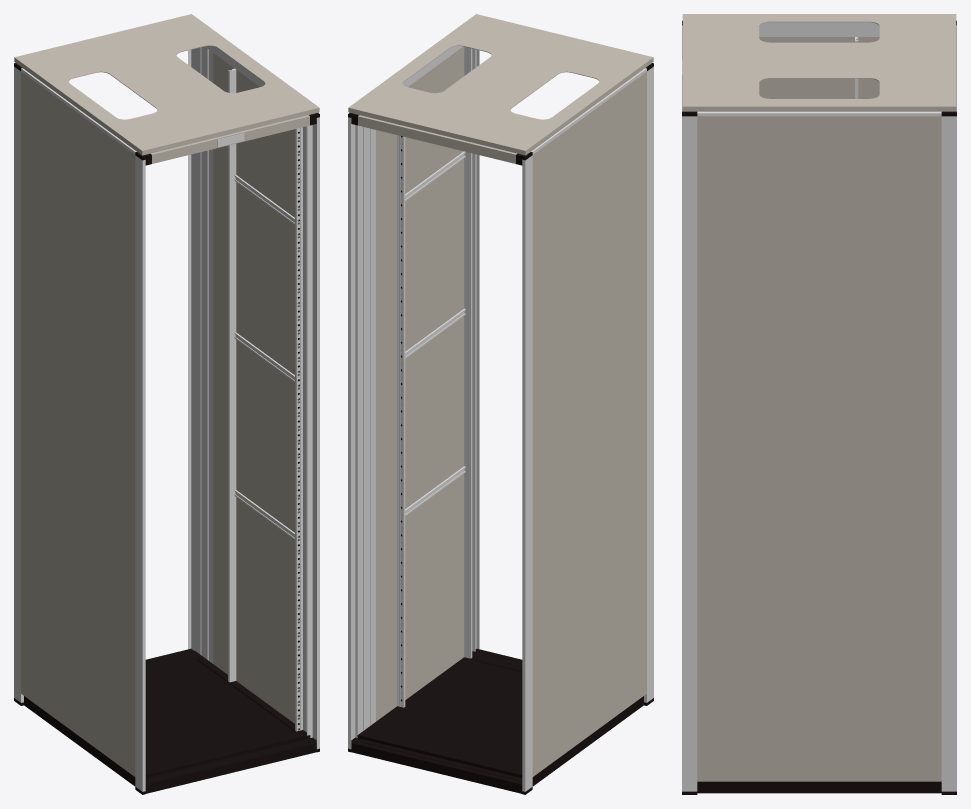
File: RACK_44U.glb
3 views of the same model, side by side, from view 1: azimuth 30°, elevation 25°; view 2: azimuth 150°, elevation 25°; view 3: azimuth 270°, elevation 25° (orthographic). The views are drawn at different scales.
Visible parts, largest first — view 1: Rack090, Rectangle051; view 2: Rack090, Rectangle051; view 3: Rack090, Rectangle051.
Part boxes in pixels (x1,y1,x2,y2): Rack090: (14,14,319,794); Rectangle051: (24,648,316,793); Rack090: (348,14,653,794); Rectangle051: (351,648,643,793); Rack090: (682,14,956,794); Rectangle051: (697,781,941,793).
Bounding box in the file's own units: 0.6 × 2.08 × 0.753.
5 materials, 2 textured.
